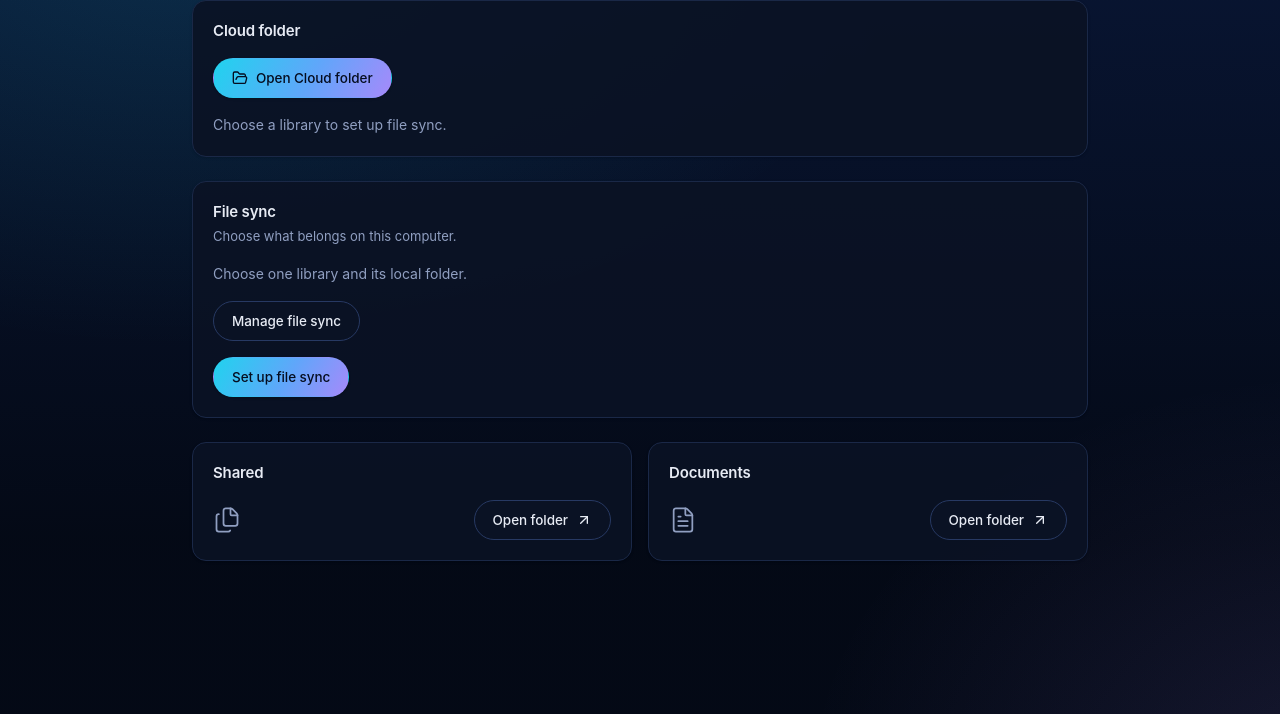
Test: Cloud onboarding › requests libraries deliberately and requires one choice before the native folder picker
Click the button "Set up file sync". click: (281, 377)
box: [213,357,349,397]
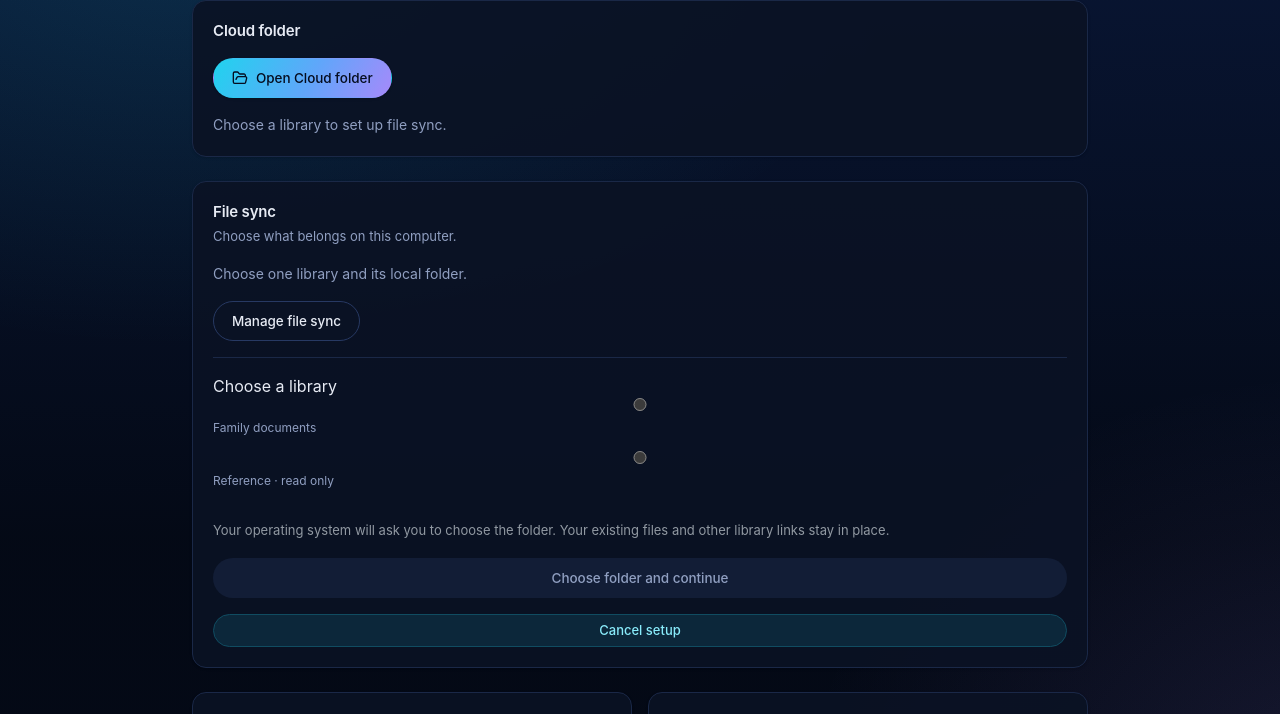
Expected: the radio button labelled "Family documents" is not checked
Expected: the button "Choose folder and continue" is disabled, [213,558,1067,598]
Click the radio button labelled "Family documents". click: (640, 405)
box: [213,398,1067,411]
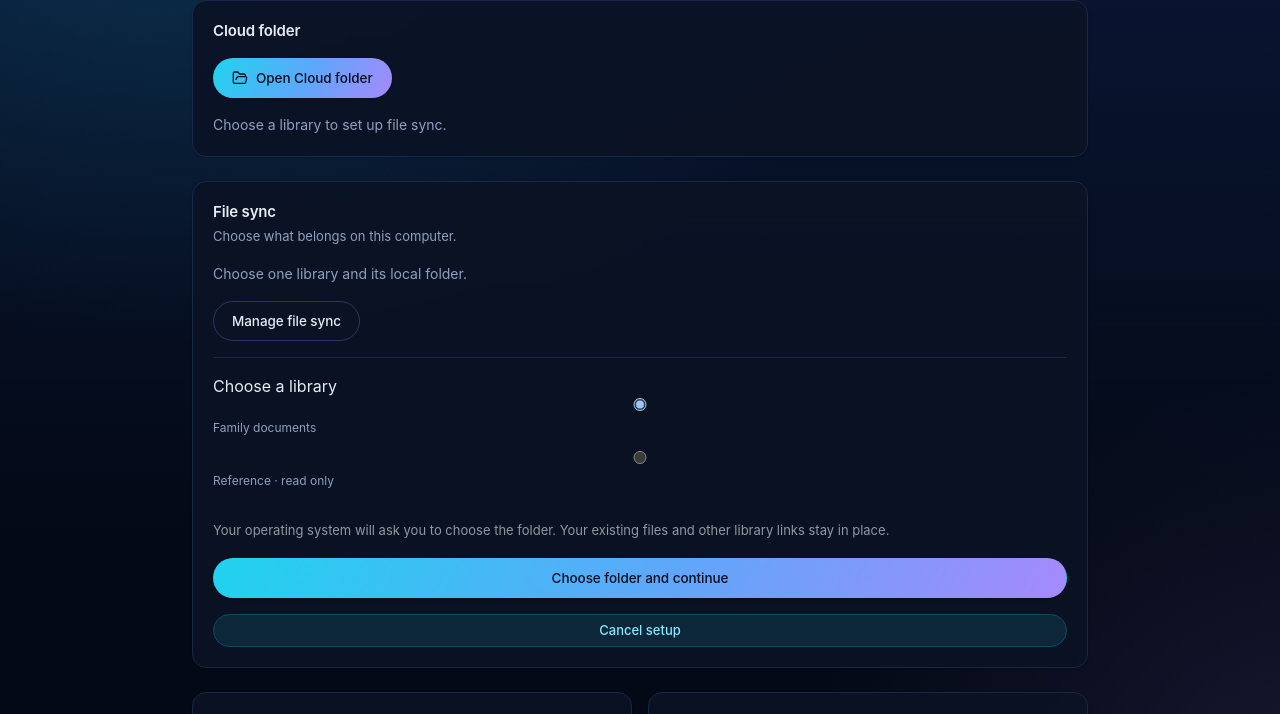
Click the button "Choose folder and continue". click: (640, 578)
box: [213,558,1067,598]
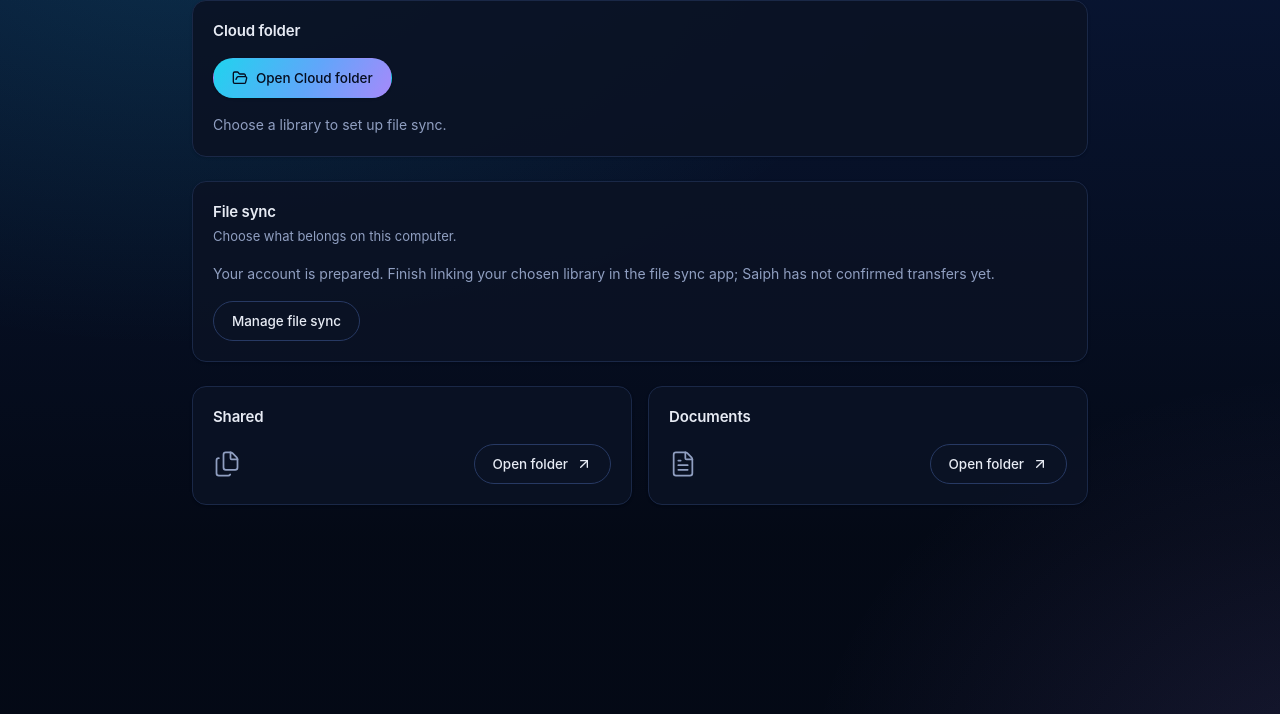
Expected: the text "Your account is prepared" shows "Saiph has not confirmed transfers yet", [213,264,995,282]
